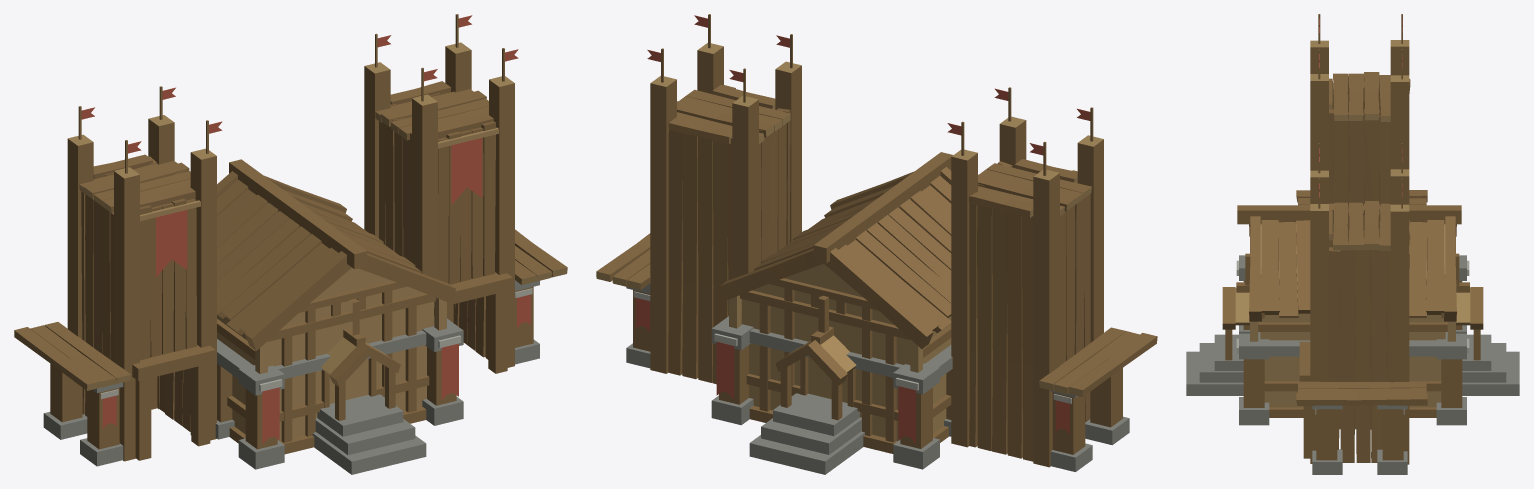
Rendered from temple.glb.
3 renders of one model, left to right at view 1: azimuth 30°, elevation 25°; view 2: azimuth 150°, elevation 25°; view 3: azimuth 270°, elevation 25°, orthographic. The views are drawn at different scales.
Parts seen in each view (by area): view 1: Barracks_FirstAge_Level3; view 2: Barracks_FirstAge_Level3; view 3: Barracks_FirstAge_Level3.
Boxes of the visible parts, bbox=[...] form: Barracks_FirstAge_Level3: bbox=[14, 14, 567, 474]; Barracks_FirstAge_Level3: bbox=[596, 14, 1157, 474]; Barracks_FirstAge_Level3: bbox=[1186, 14, 1519, 474].
Size of the model in its own units: 2.33 by 1.47 by 1.57.
